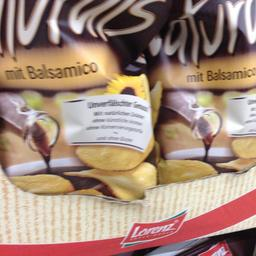chips: (0, 0, 162, 185), (150, 0, 255, 183)
